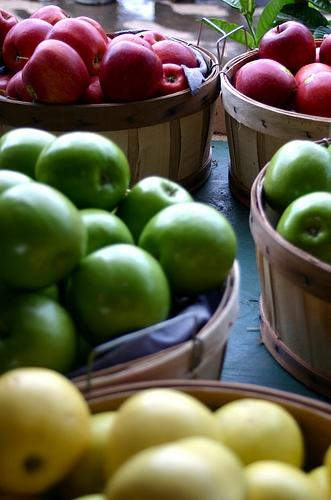apple: (0, 366, 92, 494), (102, 388, 224, 481), (65, 242, 170, 346), (0, 182, 88, 293), (103, 435, 249, 500), (137, 202, 236, 290), (36, 130, 132, 212), (0, 291, 78, 376), (214, 398, 305, 470), (114, 176, 196, 246), (60, 411, 118, 500), (264, 140, 331, 216), (16, 39, 91, 105), (275, 191, 331, 265), (99, 41, 162, 101), (45, 17, 108, 76), (258, 20, 317, 76), (232, 60, 298, 110), (0, 128, 56, 180), (242, 459, 313, 499), (2, 18, 53, 72), (79, 208, 135, 257), (295, 71, 331, 118), (152, 40, 200, 68), (154, 64, 189, 98), (0, 9, 19, 67), (74, 16, 109, 47), (0, 168, 37, 196), (28, 5, 73, 27), (6, 70, 36, 102), (294, 62, 331, 87), (74, 76, 106, 104), (304, 465, 330, 498), (110, 189, 131, 214), (134, 31, 168, 46), (34, 284, 58, 302), (319, 34, 331, 66), (0, 74, 15, 97), (72, 493, 106, 500), (323, 444, 331, 465), (315, 47, 320, 63)
